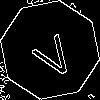V: (25, 25, 79, 82)
